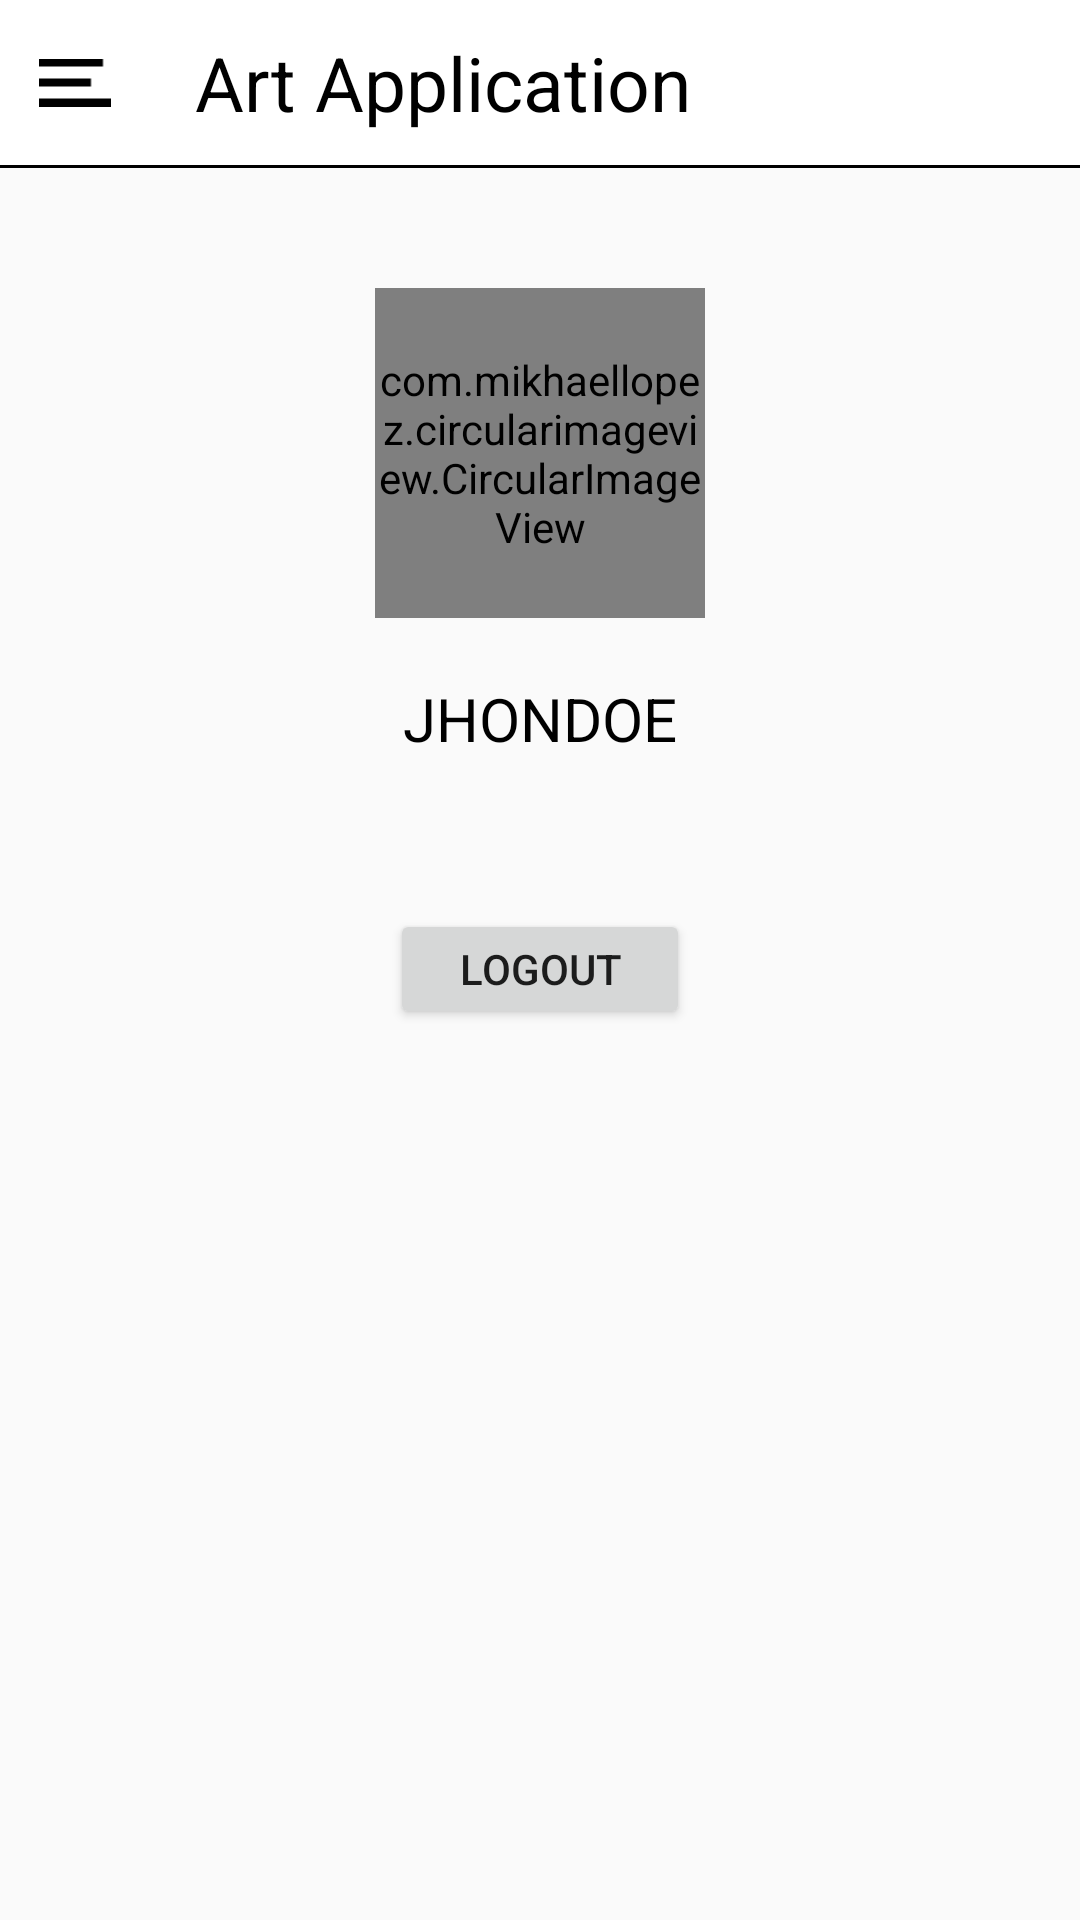

Where to tap for icons on this 1080w x 1920h app screen, as (x,y):
menu: (75,83)
